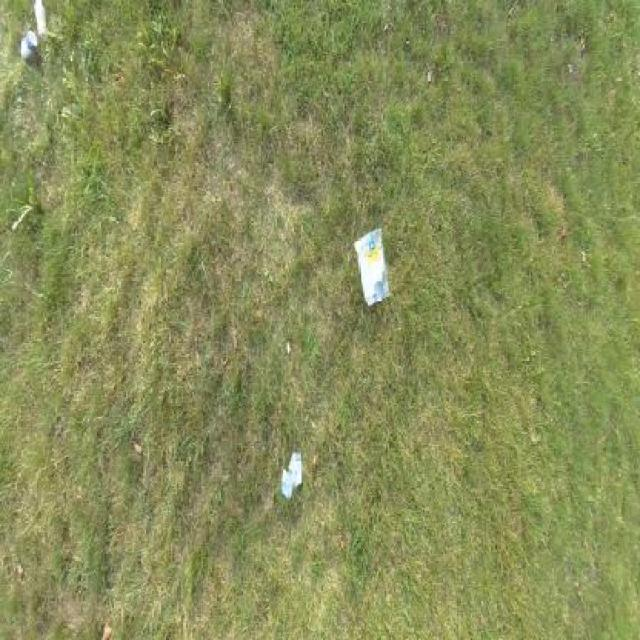Garbage: (354, 227, 392, 305), (279, 451, 302, 502), (34, 1, 48, 37), (20, 31, 38, 57)
